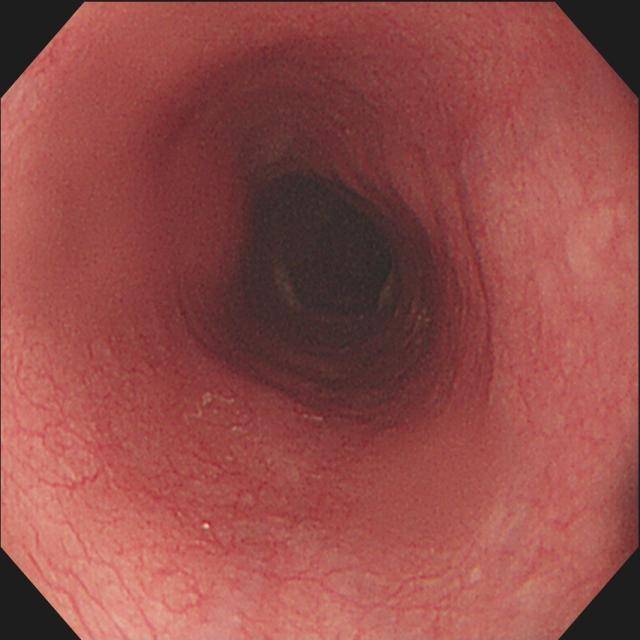E: (276, 180, 405, 316)
